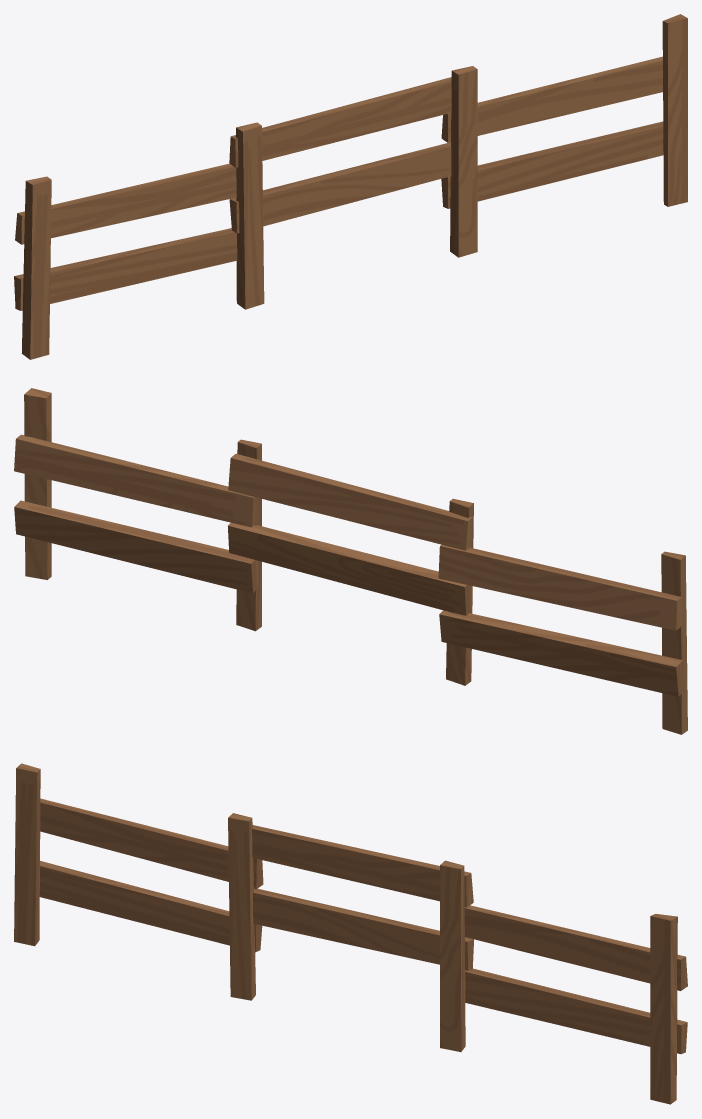
File: fenceB.glb
3 views of the same model, one above another, from view 1: azimuth 30°, elevation 25°; view 2: azimuth 150°, elevation 25°; view 3: azimuth 330°, elevation 25° (orthographic).
Parts seen in each view (by area): view 1: middle, right, left; view 2: left, right, middle; view 3: middle, left, right.
Part boxes in pixels (x1,y1,x2,y2): middle: [229, 66, 477, 309]; right: [14, 163, 237, 359]; left: [441, 14, 687, 208]; left: [14, 388, 258, 593]; right: [438, 544, 687, 734]; middle: [228, 439, 473, 685]; middle: [228, 813, 473, 1051]; left: [464, 905, 687, 1104]; right: [14, 763, 263, 952].
Size of the model in its own units: 11.53 by 3.08 by 0.4584.
Materials: 1 (1 with a texture image).
